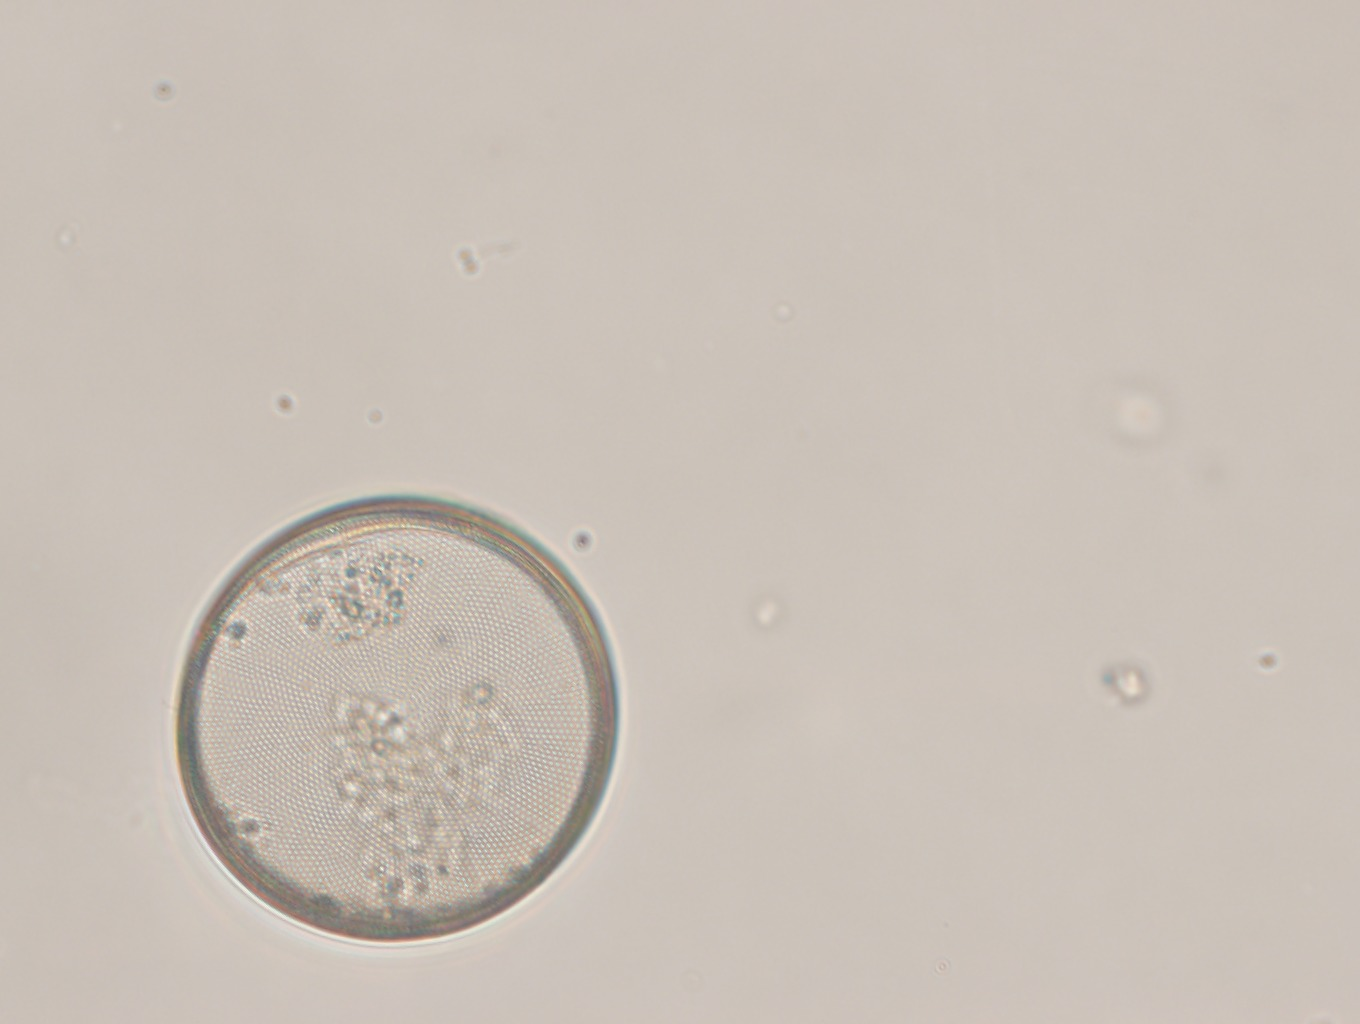coscinodiscus: (171, 490, 622, 945)
